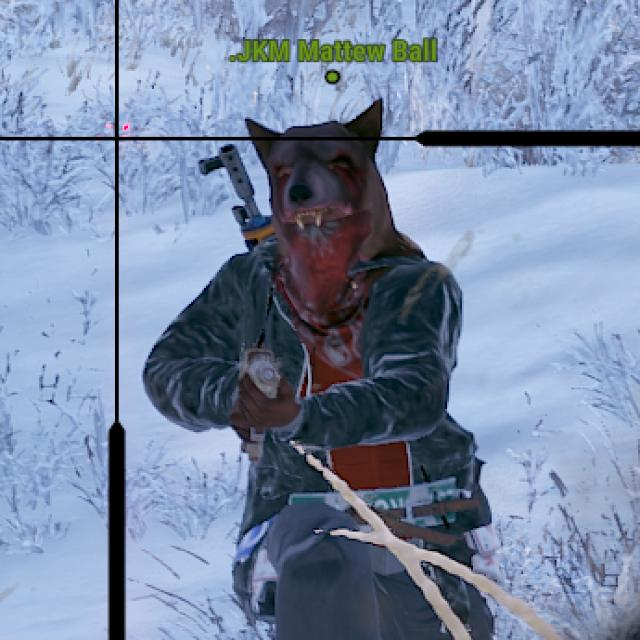Player: (147, 115, 492, 640)
